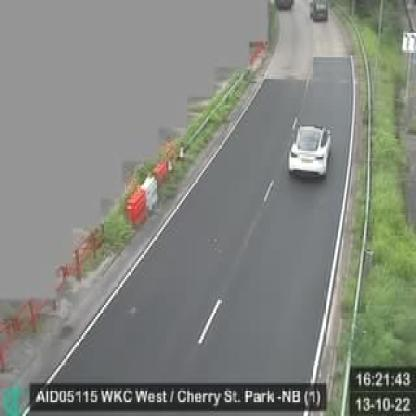Car: (288, 120, 334, 180), (309, 0, 328, 23)
